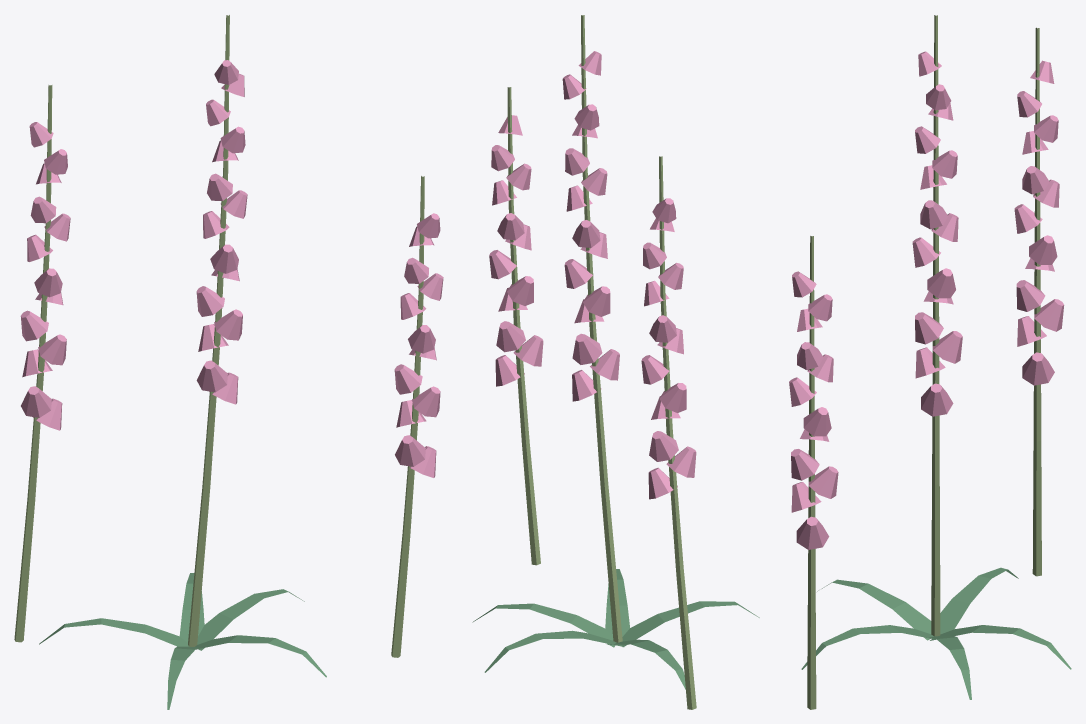
File: temperate-forest-ecology-foxglove-group-2306d84d__3856.glb
3 views of the same model, side by side, from view 1: azimuth 30°, elevation 25°; view 2: azimuth 150°, elevation 25°; view 3: azimuth 270°, elevation 25° (orthographic). The views are drawn at different scales.
Visible parts, largest first — view 1: foxglove-group; view 2: foxglove-group; view 3: foxglove-group.
Part boxes in pixels (x1=…): foxglove-group: x1=14, y1=15, x2=443, y2=709; foxglove-group: x1=472, y1=15, x2=759, y2=709; foxglove-group: x1=789, y1=15, x2=1071, y2=709.
Size of the model in its own units: 0.6614 by 1.25 by 0.5011.
